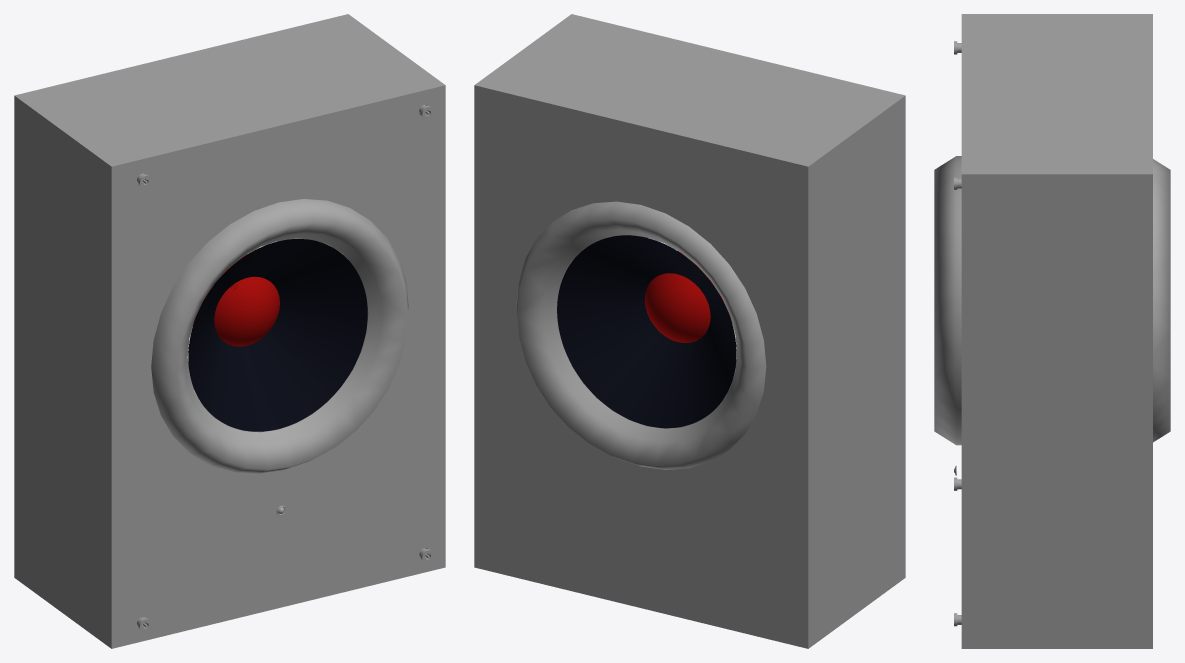
File: Speaker.obj
3 renders of one model, left to right at view 1: azimuth 30°, elevation 25°; view 2: azimuth 150°, elevation 25°; view 3: azimuth 270°, elevation 25°, orthographic.
Visible parts, largest first — view 1: Cube_Cube.001, Sphere; view 2: Cube_Cube.001, Sphere; view 3: Cube_Cube.001, Sphere.
Boxes of the visible parts, bbox=[...] form: Cube_Cube.001: bbox=[14, 14, 445, 648]; Sphere: bbox=[138, 173, 408, 474]; Cube_Cube.001: bbox=[474, 14, 905, 648]; Sphere: bbox=[516, 201, 766, 469]; Cube_Cube.001: bbox=[961, 14, 1152, 648]; Sphere: bbox=[934, 156, 1170, 445].
Size of the model in its own units: 2 by 2.76 by 1.24.
